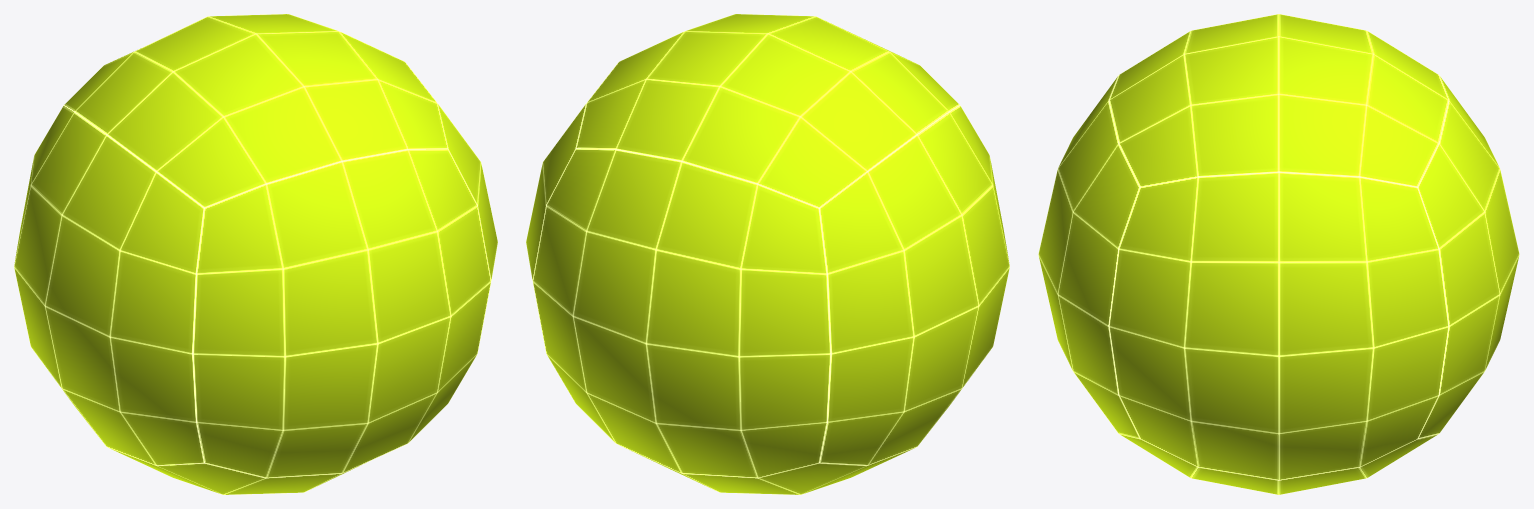
Rendered from shield_sphere.FBX.
The picture shows the model from 3 angles, left to right: view 1: azimuth 30°, elevation 25°; view 2: azimuth 150°, elevation 25°; view 3: azimuth 270°, elevation 25°; orthographic projection.
Parts seen in each view (by area): view 1: shield_sphere; view 2: shield_sphere; view 3: shield_sphere.
Boxes of the visible parts, left/top/right/bottom form: shield_sphere: left=14, top=14, right=497, bottom=494; shield_sphere: left=526, top=14, right=1009, bottom=494; shield_sphere: left=1038, top=14, right=1519, bottom=494.
Bounding box in the file's own units: 150 × 150 × 150.
